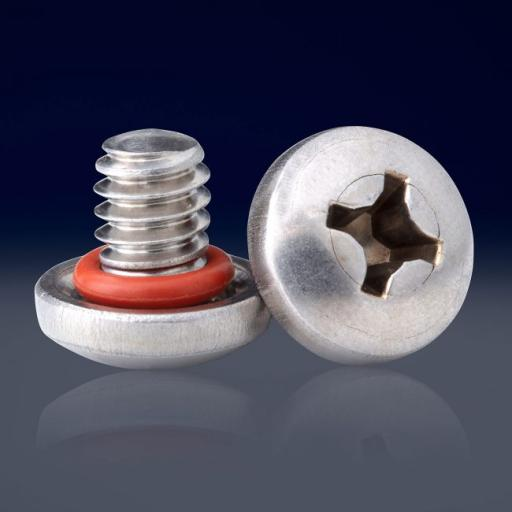Phillips: (253, 121, 474, 360)
